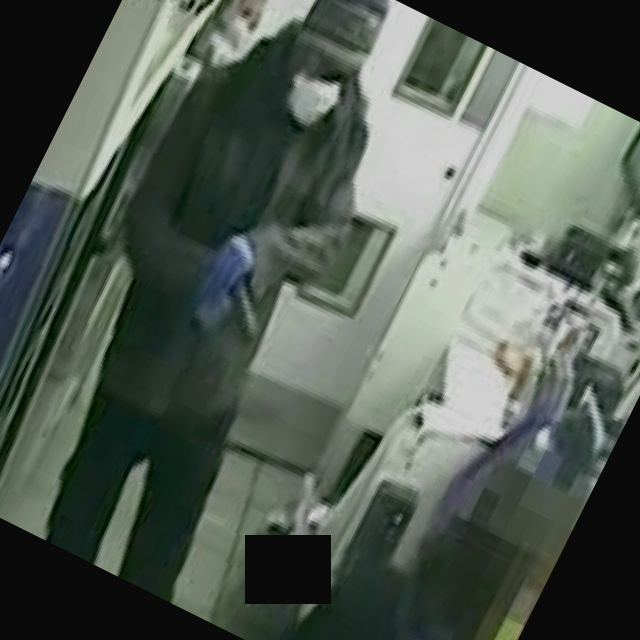gun: (189, 249, 288, 356)
